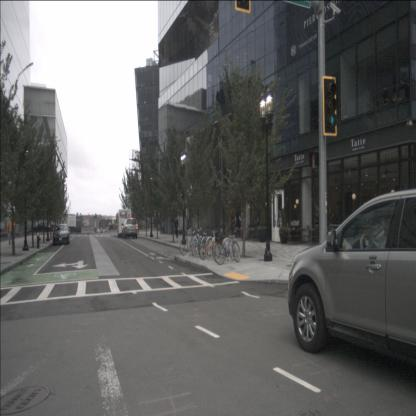human-pedestrian-adult: (7, 217, 16, 245), (234, 211, 242, 238), (278, 212, 283, 241), (174, 213, 179, 239)
vehicle-car: (288, 187, 416, 368), (117, 209, 132, 238), (52, 224, 70, 245), (122, 218, 138, 239)
